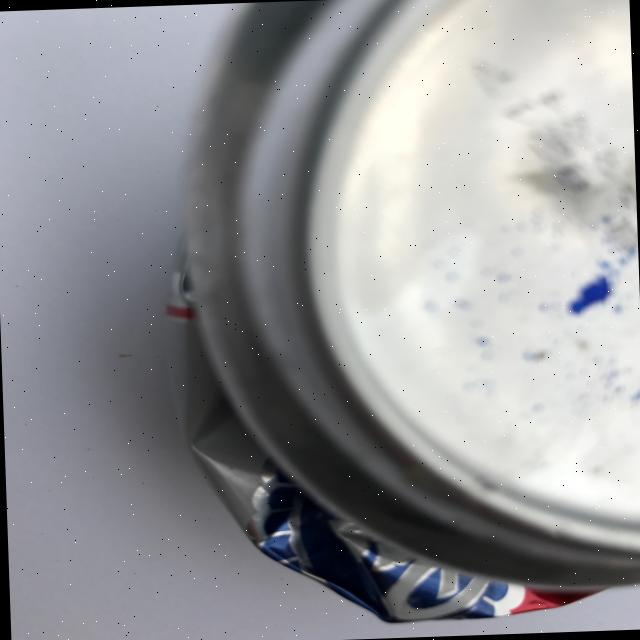metal: (154, 0, 640, 626)
